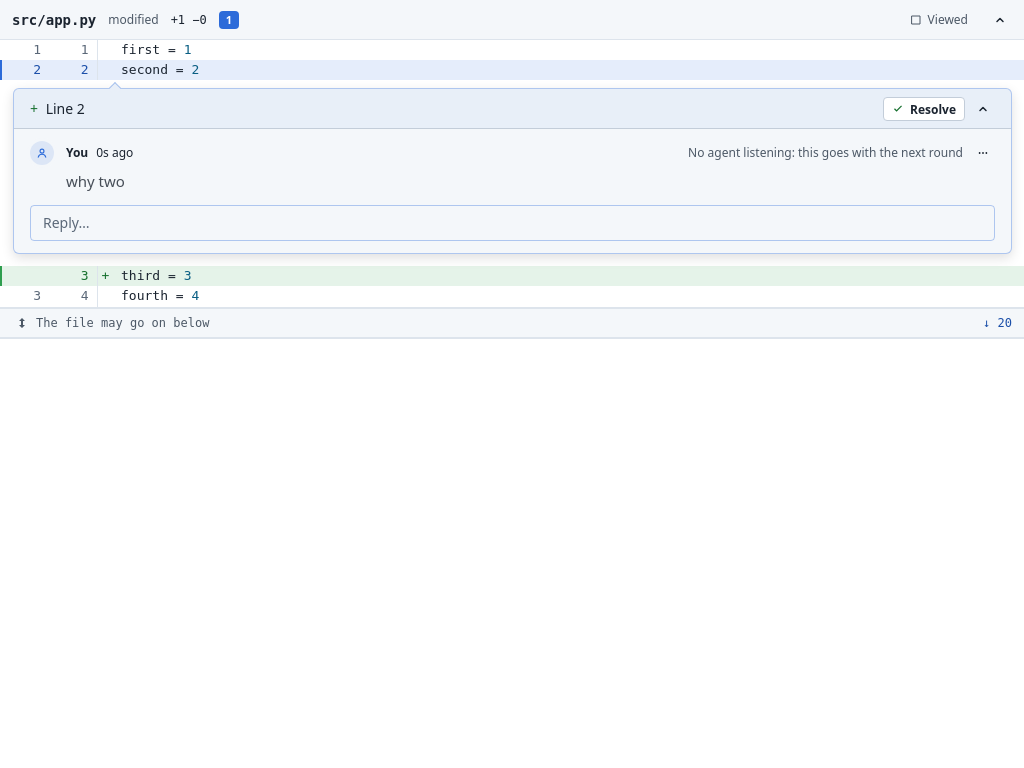
where the keyboard is after a thread changes › is on the line the thread hung under once it is deleted
The image size is (1024, 768).
Click the button with test id "turn-menu" at (983, 153), box [971, 141, 995, 165]
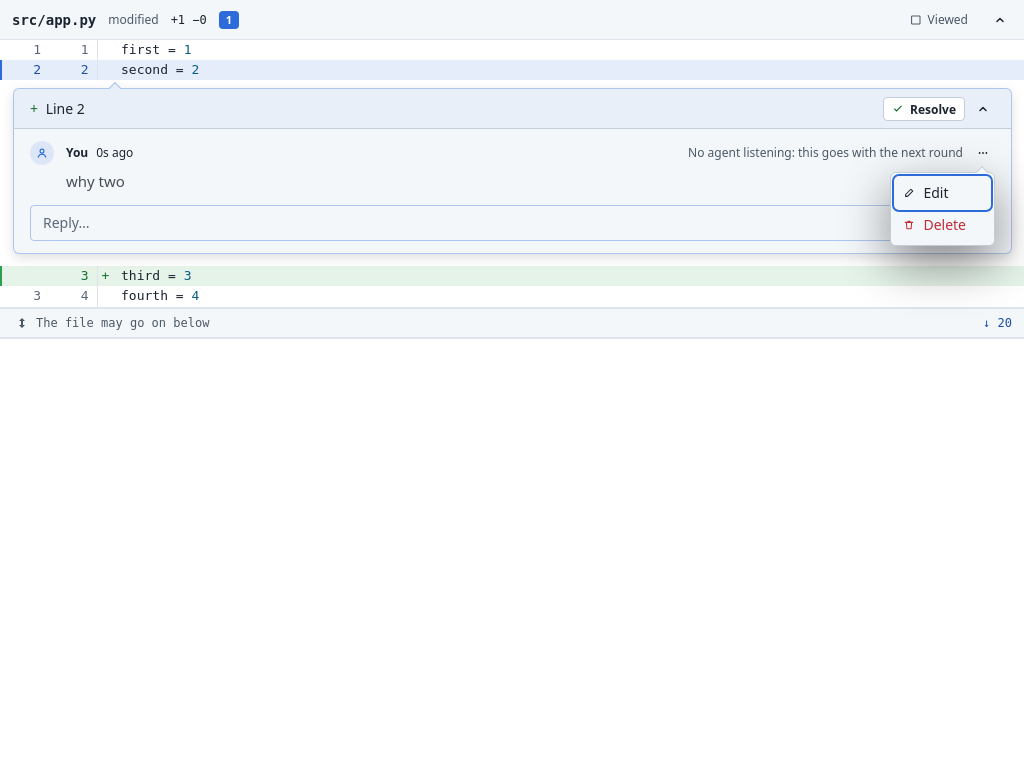
Click the button with test id "delete-turn" at (943, 225), box [895, 209, 990, 241]
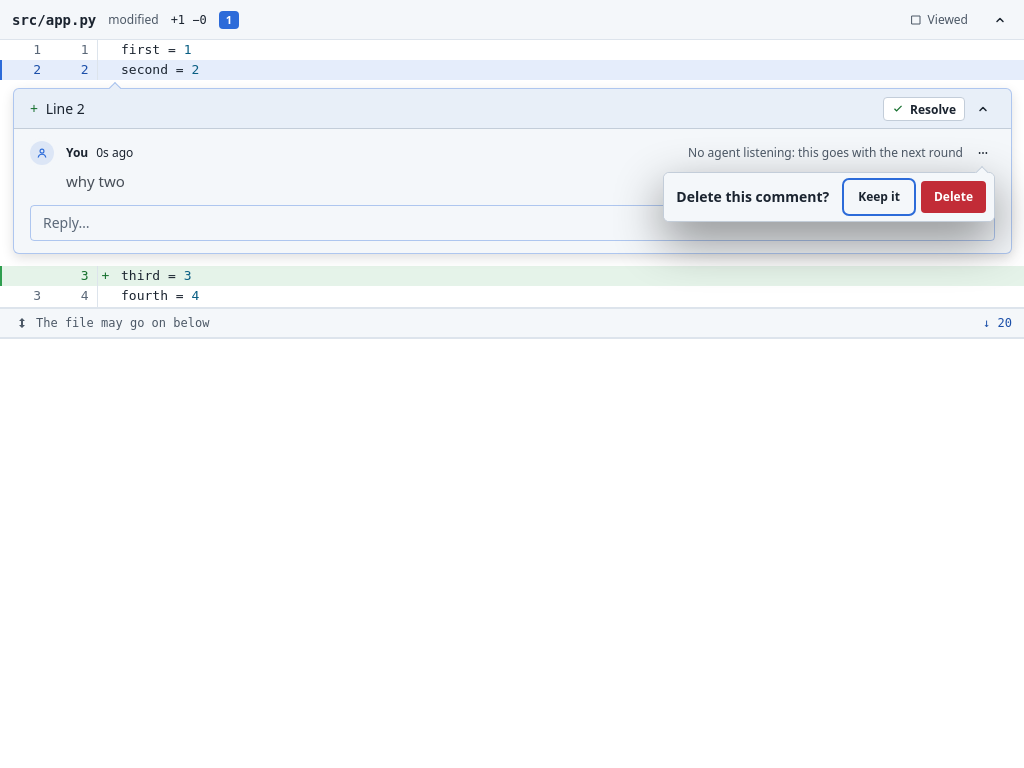
Click the button with test id "confirm-go-ahead" at (954, 197), box [921, 181, 986, 213]
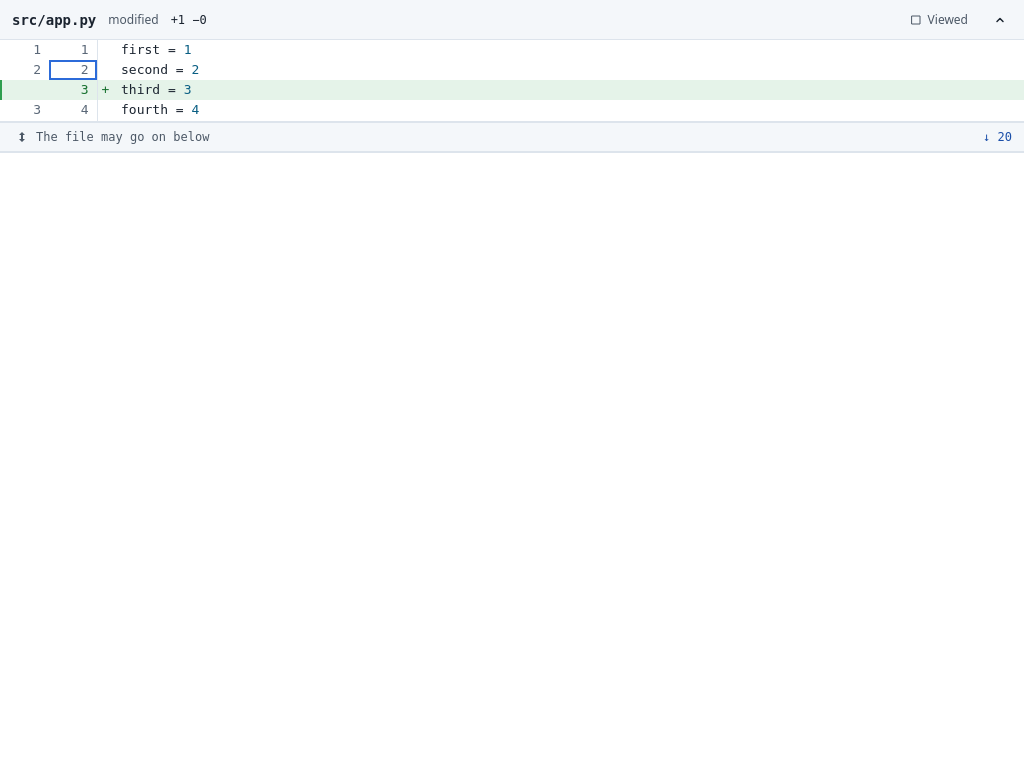
Expected: the element with test id "comment-thread" is gone
